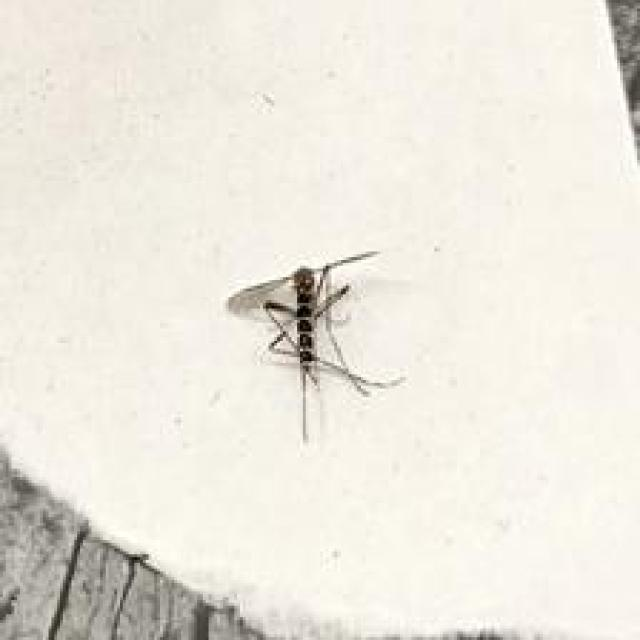Aedes albopictus: (226, 248, 406, 443)
